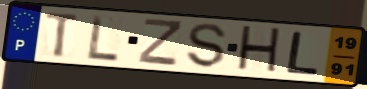H: (235, 24, 284, 77)
L: (284, 30, 321, 77), (87, 14, 121, 63)
S: (186, 22, 229, 70)
T: (44, 10, 82, 59)
Z: (137, 17, 185, 69)
